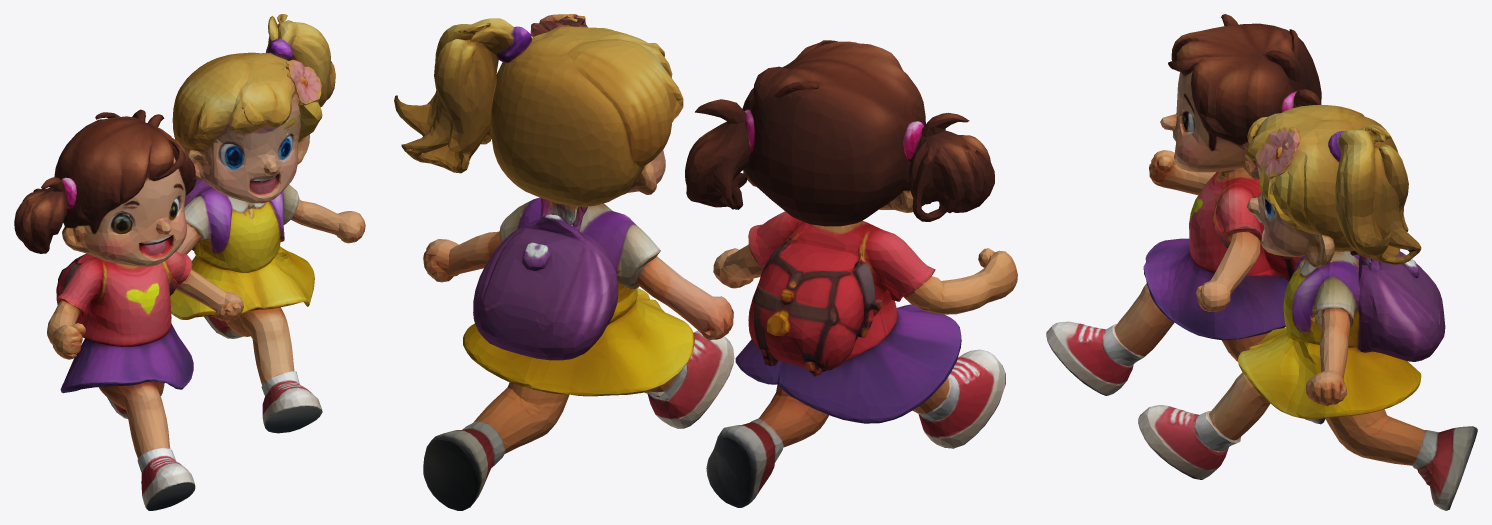
The model's file is girls.glb.
The picture shows the model from 3 angles, left to right: view 1: azimuth 30°, elevation 25°; view 2: azimuth 150°, elevation 25°; view 3: azimuth 270°, elevation 25°; orthographic projection. The views are drawn at different scales.
Visible parts, largest first — view 1: world; view 2: world; view 3: world.
Boxes of the visible parts, left/top/right/bottom form: world: left=14, top=14, right=365, bottom=510; world: left=394, top=14, right=1017, bottom=510; world: left=1046, top=14, right=1477, bottom=510.
Size of the model in its own units: 0.9997 by 0.8665 by 0.8576.
Materials: 1 (1 with a texture image).
